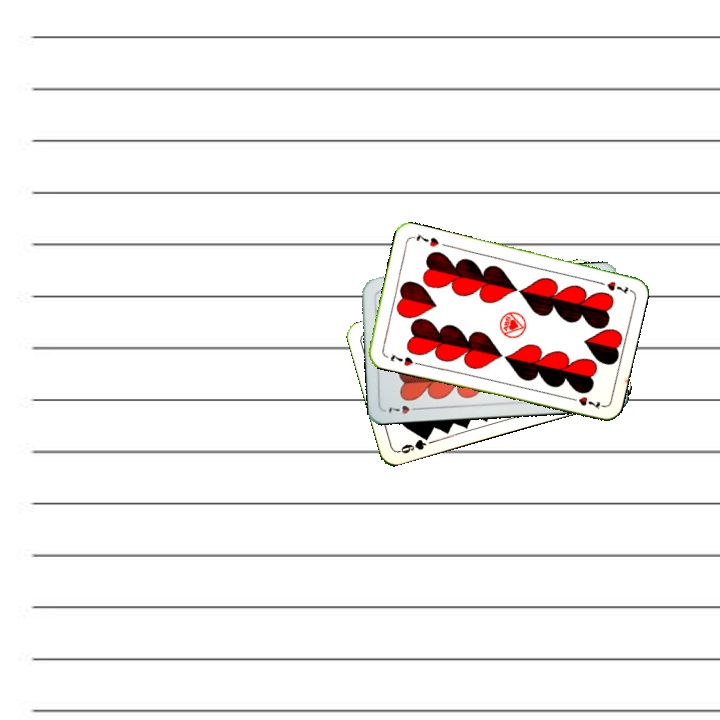G9: (394, 431, 432, 456)
H7: (593, 277, 633, 297), (385, 401, 423, 417), (386, 350, 415, 369)
